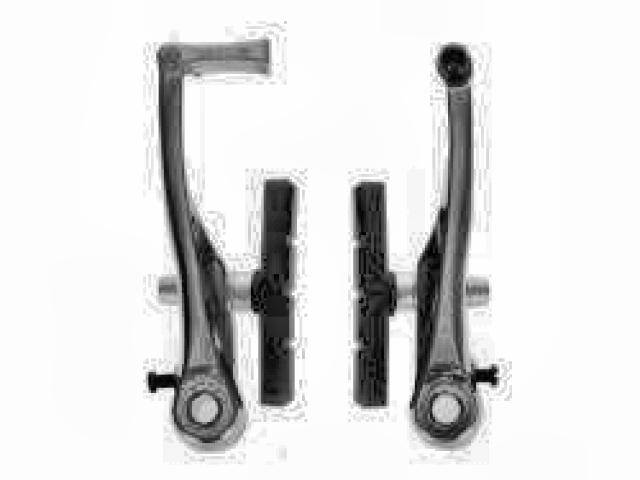rim_brake: (145, 38, 502, 453)
